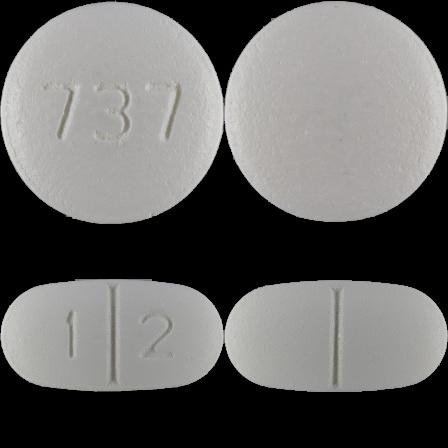52125-814: (0, 0, 224, 224)
